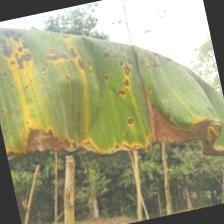pestalotiopsis: (0, 0, 224, 199)
